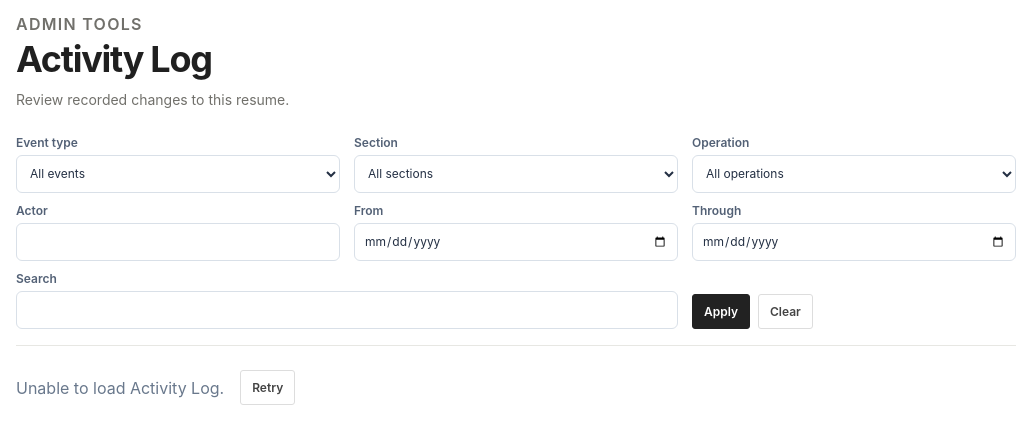
Activity Log page › offers retry after read failure without displaying the raw error
Click the button "Retry" at (268, 388), box [240,370,295,405]
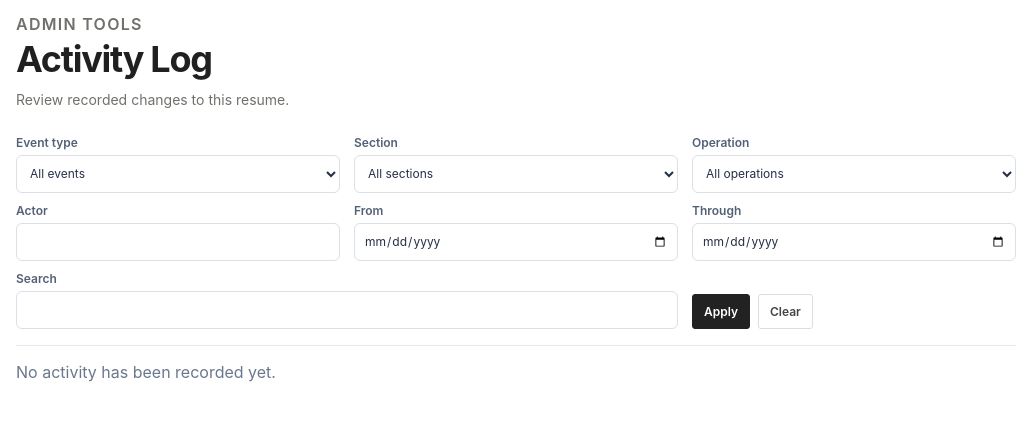
Now the text "No activity has been recorded yet." is shown, box [16,362,276,382]
